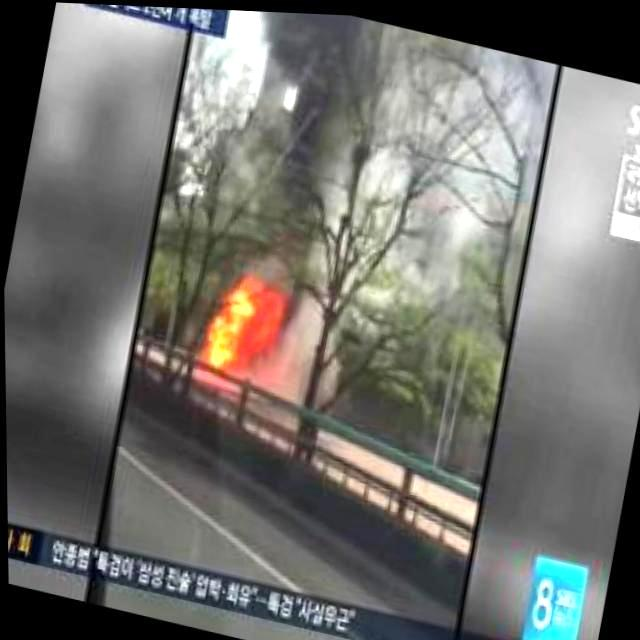fire: (192, 264, 292, 390)
